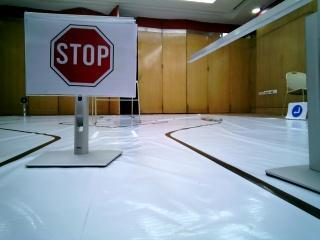stop: (36, 17, 129, 92)
